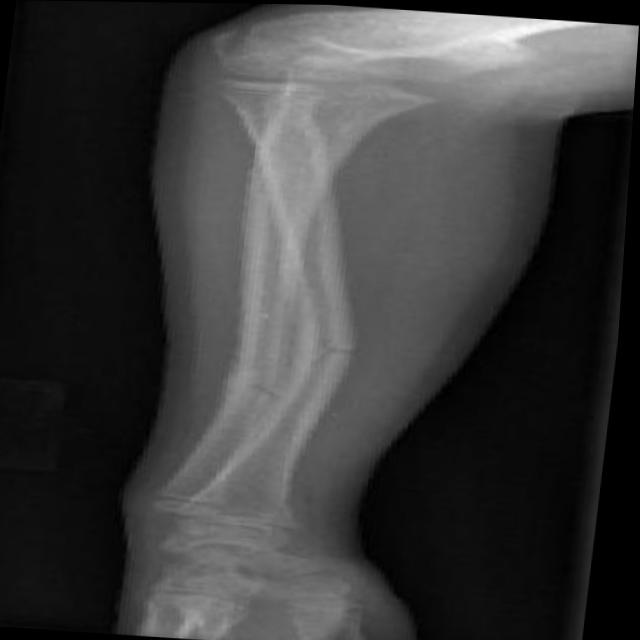fracture: (222, 372, 320, 408), (314, 335, 382, 375)
